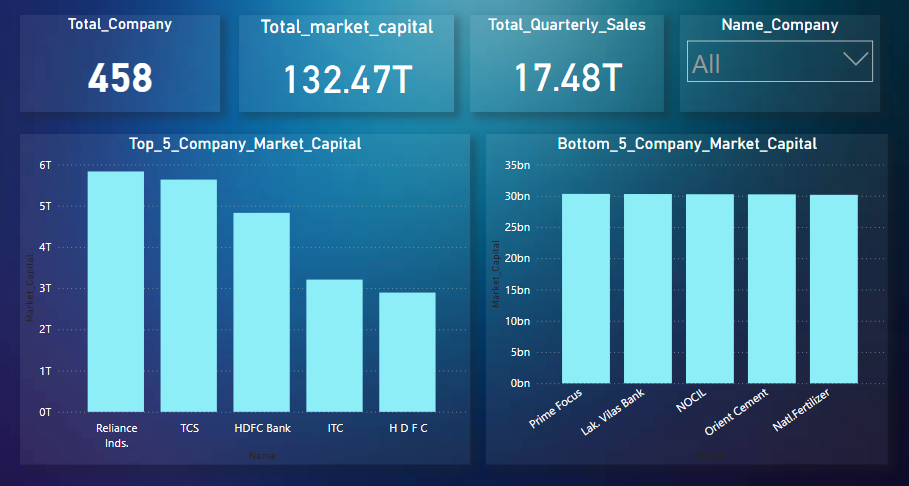

What the dashboard file says about the page in this screenshot:
{"tool":"powerbi","page":{"name":"Market Capital","canvas":[1280,720],"ordinal":0},"visuals":[{"type":"card","title":"Total_Company","fields":{"Values":["CountNonNull(Top 500 Companies - India.S.No.)"]},"box":[30.2,21.8,280.5,136.1],"z":0},{"type":"card","title":"Total_market_capital","fields":{"Values":["Sum(Top 500 Companies - India.Market_Capital)"]},"box":[337.6,21.8,302.4,136.1],"z":1},{"type":"slicer","title":"Name_Company","fields":{"Values":["Top 500 Companies - India.Name"]},"box":[957.5,21.8,280.5,136.1],"z":2},{"type":"columnChart","title":"Top_5_Company_Market_Capital","fields":{"Y":["Sum(Top 500 Companies - India.Market_Capital)"],"Category":["Top 500 Companies - India.Name"]},"box":[30.2,189.8,631.6,463.6],"z":3},{"type":"card","title":"Total_Quarterly_Sales","fields":{"Values":["Sum(Top 500 Companies - India.Sales_Quater)"]},"box":[661.8,21.8,272.1,136.1],"z":5},{"type":"columnChart","title":"Bottom_5_Company_Market_Capital","fields":{"Y":["Sum(Top 500 Companies - India.Market_Capital)"],"Category":["Top 500 Companies - India.Name"]},"box":[685.4,189.8,564.4,463.6],"z":6}]}

Visuals, with their boxes on the page's 1280x720 design canvas (x1, y1, x2, y2). These are canvas units, not pixel positions in the 909x486 screenshot, which may show the page scaled, cropped or inside an application window:
"Total_Company" card: pyautogui.locateOnScreen(30, 22, 311, 158)
"Total_market_capital" card: pyautogui.locateOnScreen(338, 22, 640, 158)
"Name_Company" slicer: pyautogui.locateOnScreen(958, 22, 1238, 158)
"Top_5_Company_Market_Capital" columnChart: pyautogui.locateOnScreen(30, 190, 662, 653)
"Total_Quarterly_Sales" card: pyautogui.locateOnScreen(662, 22, 934, 158)
"Bottom_5_Company_Market_Capital" columnChart: pyautogui.locateOnScreen(685, 190, 1250, 653)
